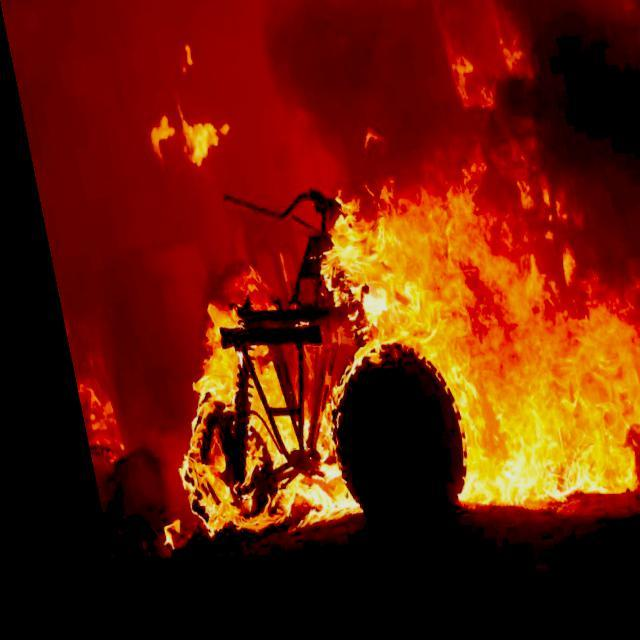Fire: (113, 116, 639, 557)
